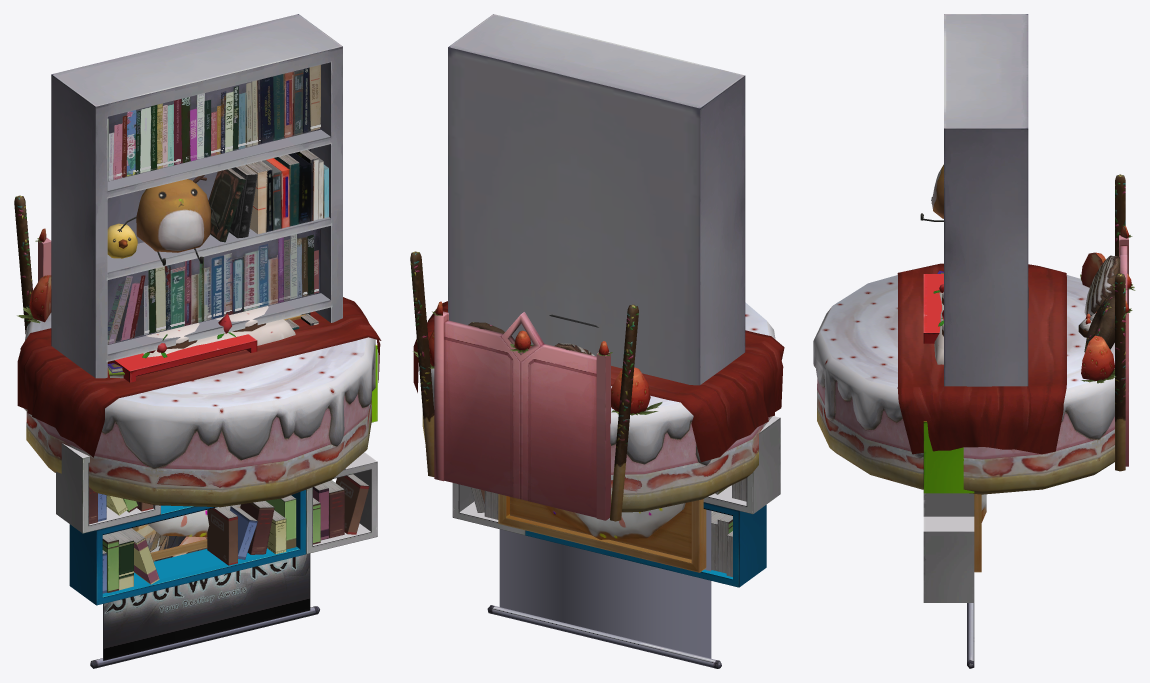
The model's file is room.glb.
3 views of the same model, side by side, from view 1: azimuth 30°, elevation 25°; view 2: azimuth 150°, elevation 25°; view 3: azimuth 270°, elevation 25° (orthographic). The views are drawn at different scales.
Visible parts, largest first — view 1: bookcase, bed, shelf, poster, drawer, window; view 2: bookcase, bed, poster, shelf, window; view 3: bed, bookcase, shelf, window, poster.
Boxes of the visible parts, <box> form: bookcase: <box>51,14,342,378</box>; bed: <box>14,195,381,507</box>; shelf: <box>56,334,377,605</box>; poster: <box>90,312,319,668</box>; drawer: <box>142,306,295,358</box>; window: <box>147,314,305,560</box>; bookcase: <box>448,14,745,385</box>; bed: <box>410,251,784,521</box>; poster: <box>487,509,721,668</box>; shelf: <box>452,416,780,587</box>; window: <box>498,494,706,572</box>; bed: <box>813,174,1135,494</box>; bookcase: <box>920,14,1028,386</box>; shelf: <box>923,274,974,602</box>; window: <box>974,494,986,572</box>; poster: <box>967,603,974,668</box>.
Bounding box in the file's own units: 2.6 × 4.27 × 2.29.
20 materials, 20 textured.
